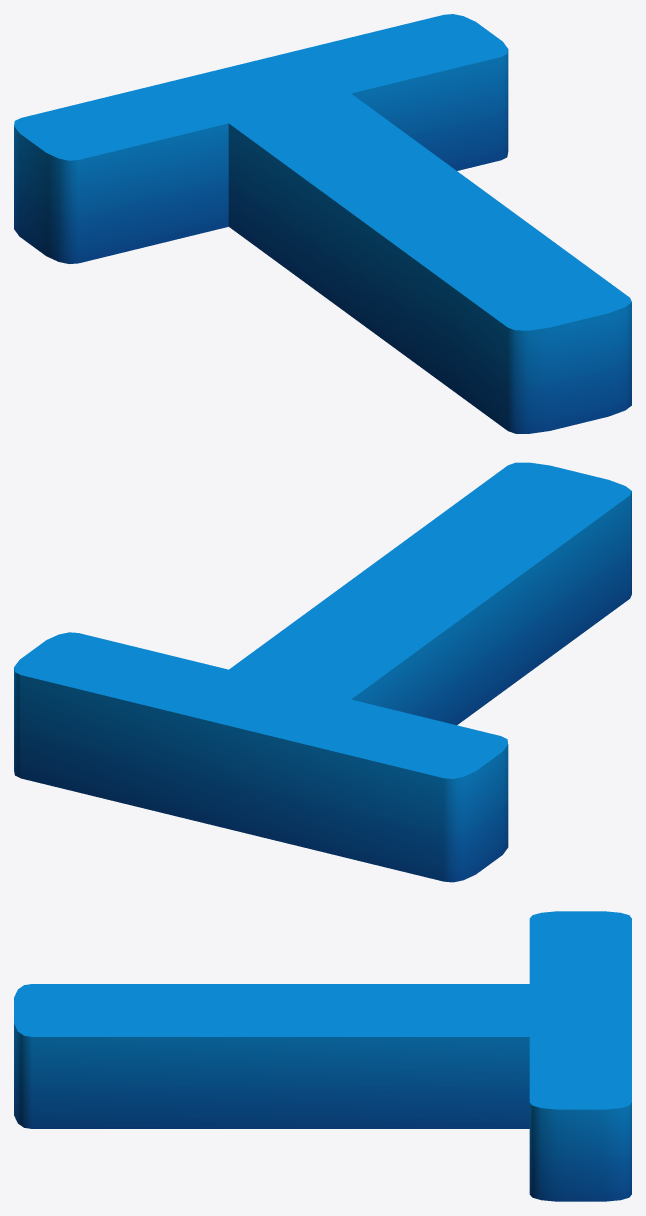
The model's file is letter_T.fbx.
3 views of the same model, one above another, from view 1: azimuth 30°, elevation 25°; view 2: azimuth 150°, elevation 25°; view 3: azimuth 270°, elevation 25° (orthographic). The views are drawn at different scales.
Parts seen in each view (by area): view 1: letter_T; view 2: letter_T; view 3: letter_T.
Part boxes in pixels (x1,y1,x2,y2): letter_T: (14,14,631,433); letter_T: (14,462,631,882); letter_T: (14,911,631,1201).
Bounding box in the file's own units: 17.32 × 3.75 × 22.81.
